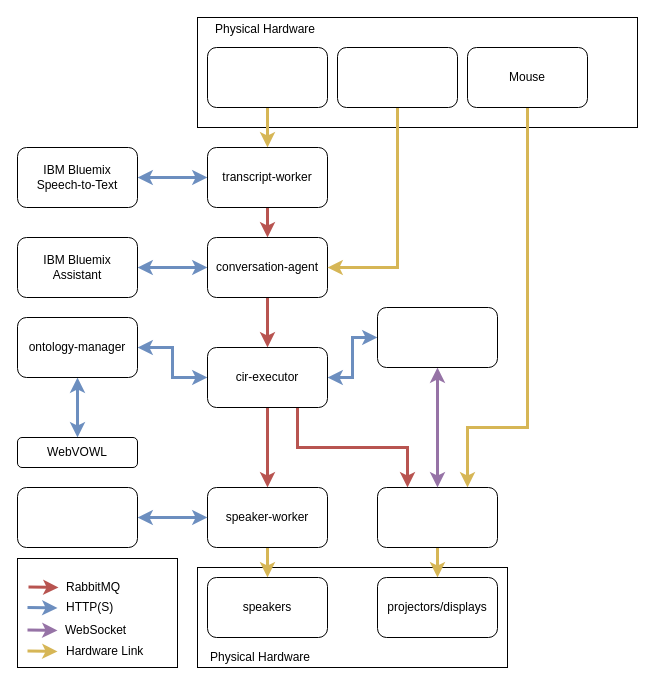
Some shapes in this 655 by 685 pixel diagram are drawn without their labels. The centre of each missing label's shape, as x and y in pixels:
"display-worker (Electron)" belongs at pixel 437 517.
"IBM Watson Text-to-Speech" belongs at pixel 77 517.
"Keyboard" belongs at pixel 397 77.
"Lapel Microphones" belongs at pixel 267 77.
"Reagent" belongs at pixel 437 337.
